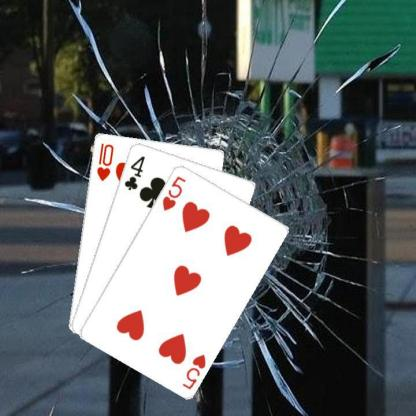10H: (94, 140, 115, 182)
4C: (121, 153, 146, 191)
5H: (180, 350, 207, 390), (160, 173, 187, 212)
